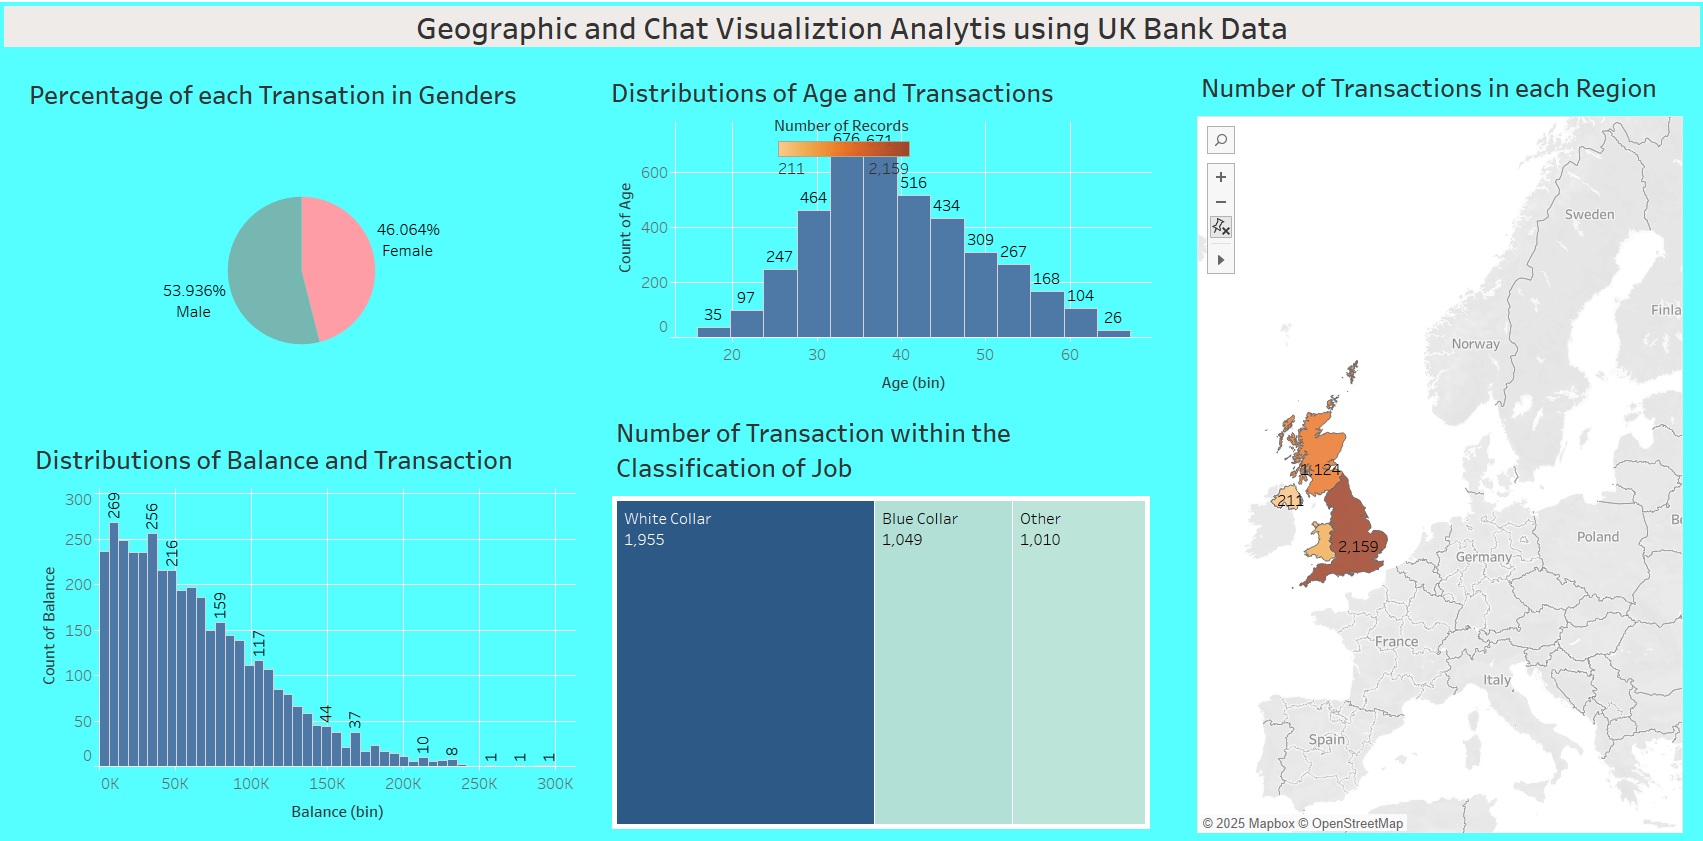

This screenshot's page, from the dashboard's own definition file:
{"tool":"tableau","page":{"name":"Geographic and Chat Visualiztion Analytis using UK Bank Data","canvas":[1000,1000],"units":"permille","ordinal":0},"visuals":[{"type":"title","box":[4.7,10.2,897.7,62.7]},{"type":"legend","title":"Number of Transactions in each Region","param":"[federated.0bonkcx1mpy9hr10d70o70ptdtjx].[sum:Number of Records:qk]","box":[902.3,10.2,93,93.5]},{"type":"worksheet","title":"Number of Transactions in each Region","mark":"Automatic","box":[4.7,73,448.8,458.4]},{"type":"worksheet","title":"Percentage of each Transation in Genders","mark":"Pie","box":[453.5,73,448.8,458.4]},{"type":"legend","title":"Percentage of each Transation in Genders","param":"[federated.0bonkcx1mpy9hr10d70o70ptdtjx].[none:Gender:nk]","box":[902.3,103.7,93,92.2]},{"type":"legend","title":"Percentage of each Transation in Genders","param":"[federated.0bonkcx1mpy9hr10d70o70ptdtjx].[sum:Number of Records:qk]","box":[902.3,195.9,93,65.3]},{"type":"worksheet","title":"Distributions of Age and Transactions","mark":"Automatic","rows":["Age"],"cols":["Age (bin)"],"box":[4.7,531.4,339.5,458.4]},{"type":"worksheet","title":"Distributions of Balance and Transaction","mark":"Automatic","rows":["Balance"],"cols":["Balance (bin)"],"box":[344.2,531.4,313.9,458.4]},{"type":"worksheet","title":"Number of Transaction within the Classification of Job","mark":"Automatic","box":[658.1,531.4,244.2,458.4]}]}

Visuals, with their boxes on the dashboard's canvas, which has no fixed pixel size, in thousandths of its width and height (x1, y1, x2, y2). These are canvas units, not pixel positions in the 1703x841 screenshot, which may show the page scaled, cropped or inside an application window:
title: 5, 10, 902, 73
"Number of Transactions in each Region" legend: 902, 10, 995, 104
"Number of Transactions in each Region" worksheet: 5, 73, 454, 531
"Percentage of each Transation in Genders" worksheet (Pie marks): 454, 73, 902, 531
"Percentage of each Transation in Genders" legend: 902, 104, 995, 196
"Percentage of each Transation in Genders" legend: 902, 196, 995, 261
"Distributions of Age and Transactions" worksheet: 5, 531, 344, 990
"Distributions of Balance and Transaction" worksheet: 344, 531, 658, 990
"Number of Transaction within the Classification of Job" worksheet: 658, 531, 902, 990
